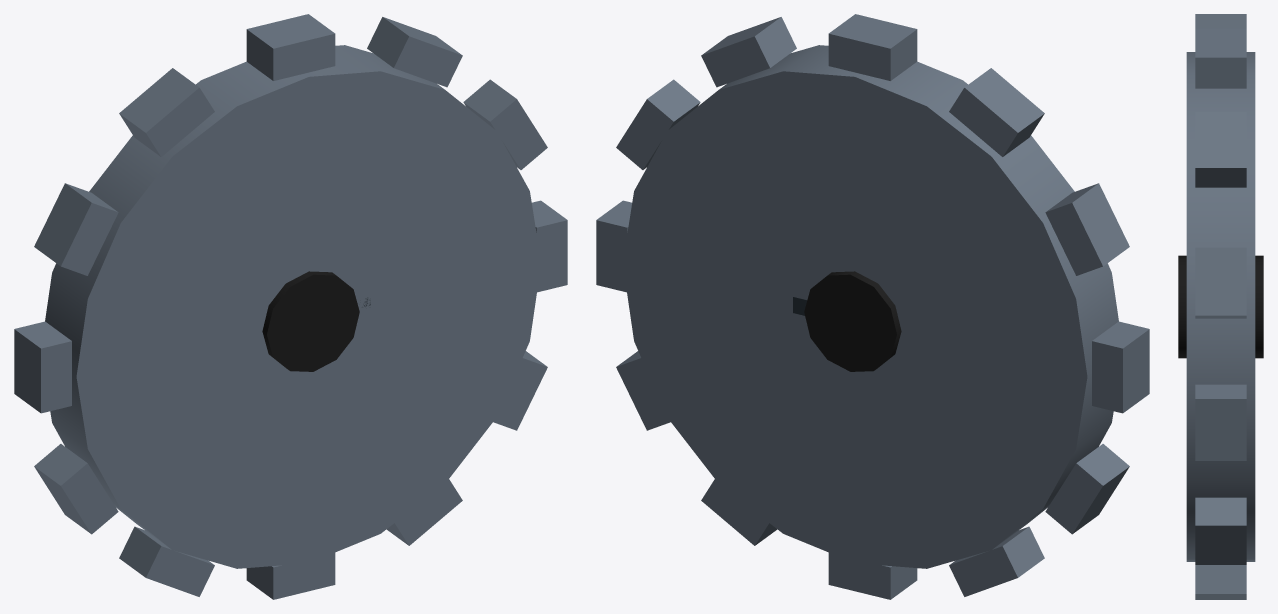
Rendered from gear-sprocket.glb.
3 renders of one model, left to right at view 1: azimuth 30°, elevation 25°; view 2: azimuth 150°, elevation 25°; view 3: azimuth 270°, elevation 25°, orthographic. The views are drawn at different scales.
Bounding box in the file's own units: 0.68 × 0.68 × 0.1.
